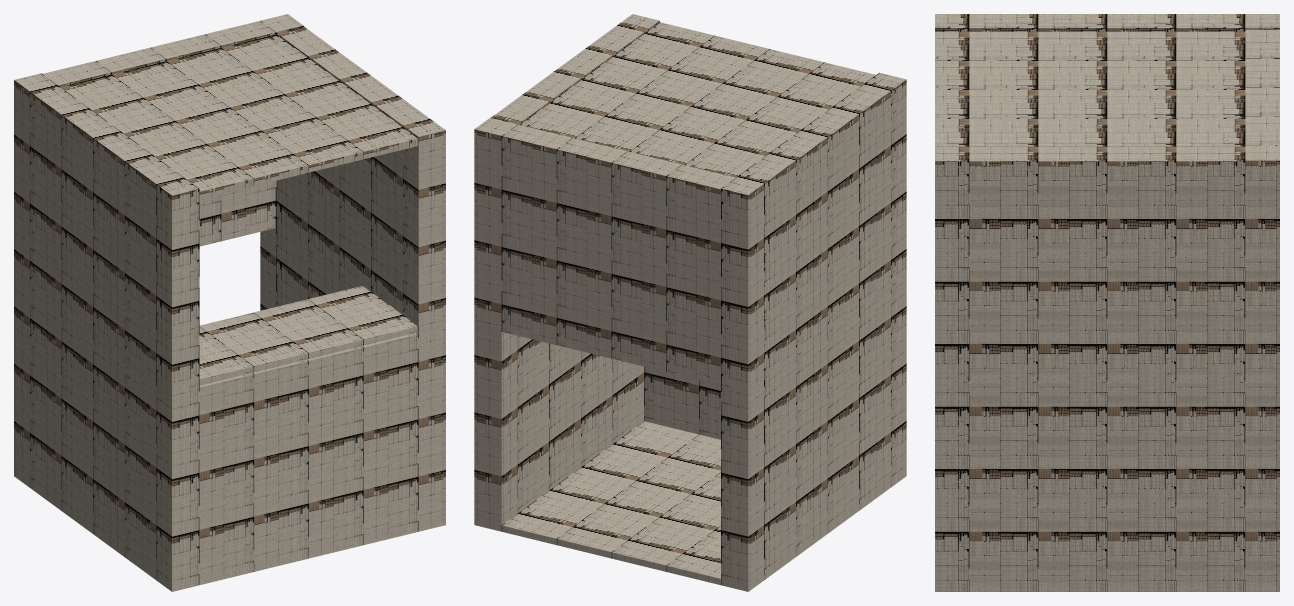
Rendered from dungeon_climb_ladder.glb.
3 renders of one model, left to right at view 1: azimuth 30°, elevation 25°; view 2: azimuth 150°, elevation 25°; view 3: azimuth 270°, elevation 25°, orthographic. The views are drawn at different scales.
Visible parts, largest first — view 1: dungeon_climb_ladder; view 2: dungeon_climb_ladder; view 3: dungeon_climb_ladder.
Boxes of the visible parts, <box> form: dungeon_climb_ladder: <box>14,14,445,591</box>; dungeon_climb_ladder: <box>474,14,906,591</box>; dungeon_climb_ladder: <box>935,14,1279,591</box>.
Size of the model in its own units: 5 by 6.91 by 5.
1 material, 1 textured.
